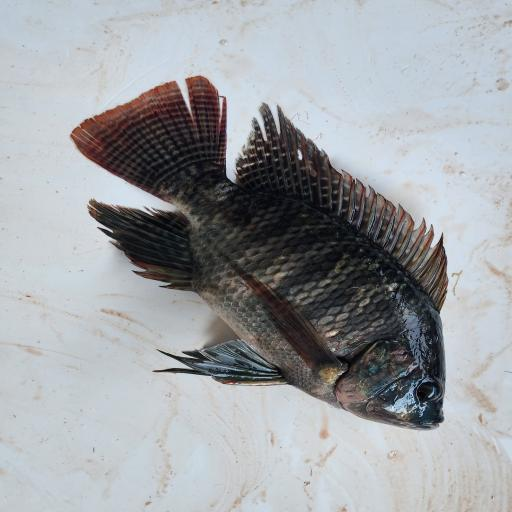Tilapia: (70, 76, 449, 431)
